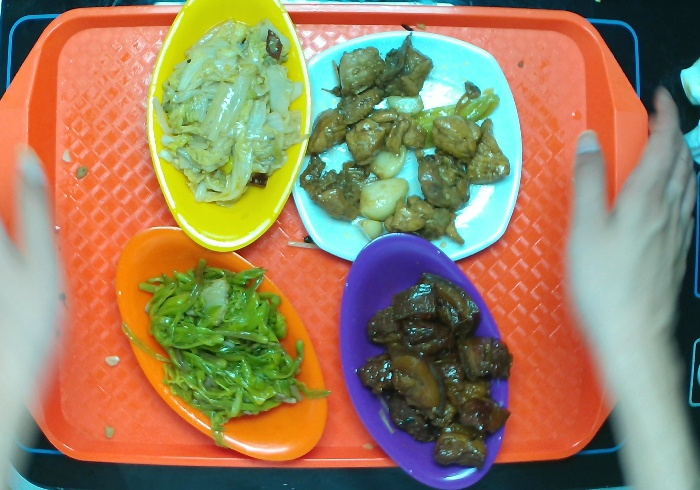RJxy-Fen_Hong_Tuo_Yuan: (334, 237, 508, 490)
RJxy-Huang_Se_Tuo_Yuan: (150, 1, 309, 259)
RJxy-Ju_Huang_Tuo_Yuan: (120, 225, 330, 458)
RJxy-Si_Fang_Die: (286, 31, 525, 272)
